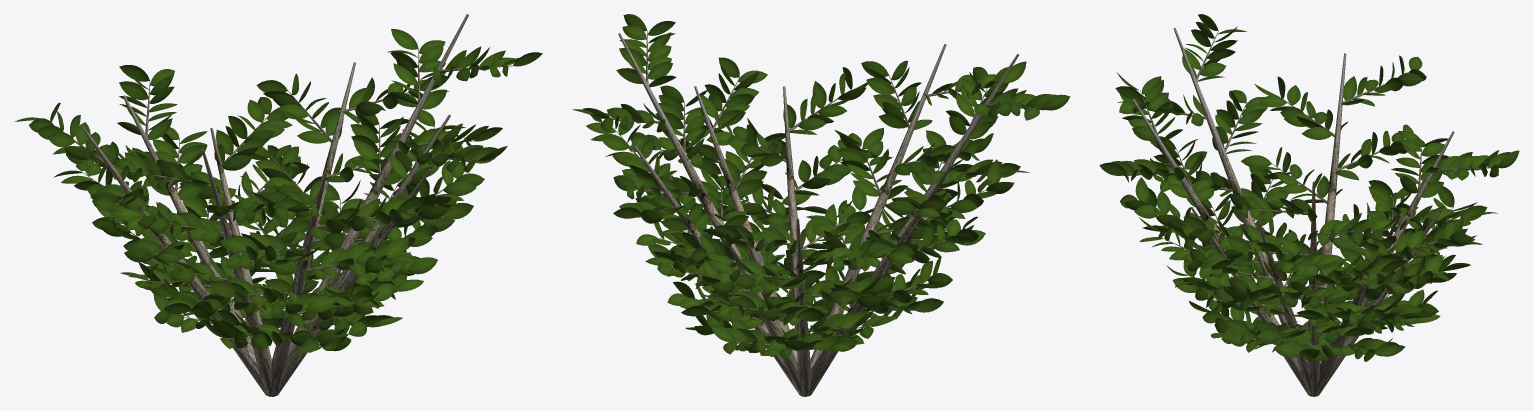
Rendered from woodland_shrub_lod0.gltf.
3 views of the same model, side by side, from view 1: azimuth 30°, elevation 25°; view 2: azimuth 150°, elevation 25°; view 3: azimuth 270°, elevation 25° (orthographic). The views are drawn at different scales.
Parts seen in each view (by area): view 1: woodland_shrub_lod0; view 2: woodland_shrub_lod0; view 3: woodland_shrub_lod0.
Boxes of the visible parts, x1,y1,x2,y2 form: woodland_shrub_lod0: [15, 14, 542, 396]; woodland_shrub_lod0: [572, 14, 1070, 396]; woodland_shrub_lod0: [1099, 14, 1519, 396].
Bounding box in the file's own units: 1.62 × 1.17 × 1.48.
3 materials, 3 textured.
